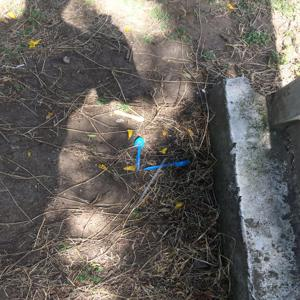plastic: (105, 95, 148, 125), (141, 160, 202, 171), (130, 134, 145, 170)
